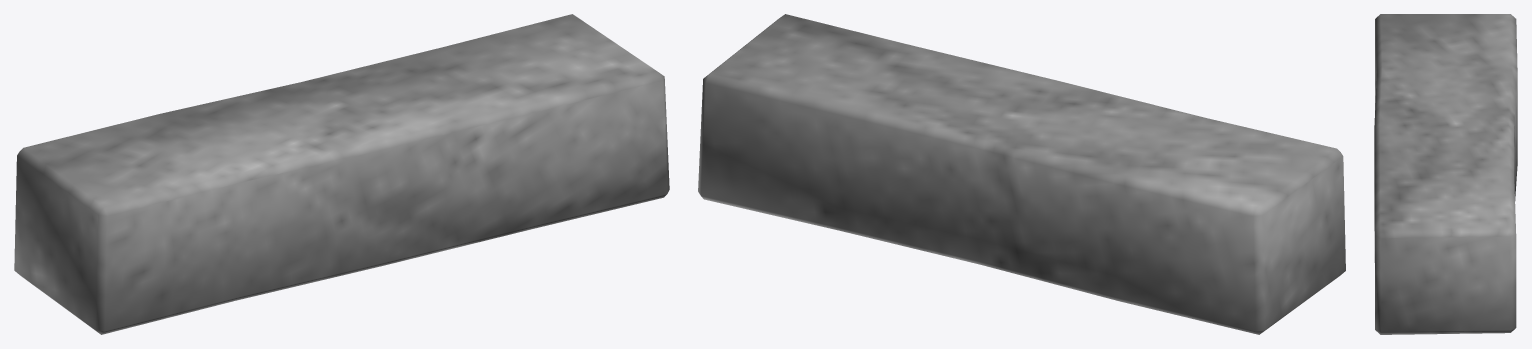
The model's file is Block03.fbx.
3 renders of one model, left to right at view 1: azimuth 30°, elevation 25°; view 2: azimuth 150°, elevation 25°; view 3: azimuth 270°, elevation 25°, orthographic. The views are drawn at different scales.
Parts seen in each view (by area): view 1: Block03_LOD0; view 2: Block03_LOD0; view 3: Block03_LOD0.
Part boxes in pixels (x1=…): Block03_LOD0: x1=14, y1=14, x2=669, y2=334; Block03_LOD0: x1=698, y1=14, x2=1345, y2=334; Block03_LOD0: x1=1374, y1=14, x2=1517, y2=334.
Size of what is drawn, in the model's own units: 1.08 by 0.2282 by 0.2908.
